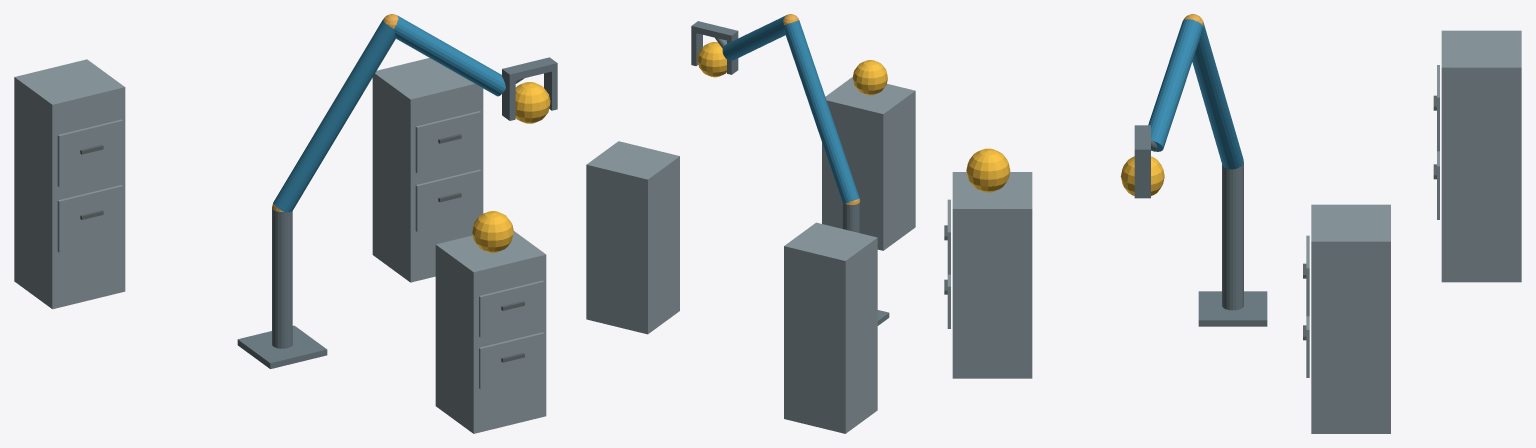
The picture shows the model from 3 angles, left to right: view 1: azimuth 30°, elevation 25°; view 2: azimuth 150°, elevation 25°; view 3: azimuth 270°, elevation 25°; orthographic projection. The views are drawn at different scales.
Visible parts, largest first — view 1: cabinet_3 body, cabinet_2 body, cabinet_1 body, moving link 1, cabinet_3 drawer front, cabinet_3 drawer front.001, cabinet_2 drawer front.001, cabinet_2 drawer front, fixed post, cabinet_1 drawer front, cabinet_1 drawer front.001, moving link 2 (+5 smaller); view 2: cabinet_3 body, cabinet_2 body, cabinet_1 body, moving link 1, moving link 2, released ball_1, ball ball_2, gripper bridge, fixed post, gripper finger 1; view 3: cabinet_3 body, cabinet_2 body, cabinet_1 body, fixed post, moving link 1, moving link 2, pedestal, released ball_1, ball ball_2, gripper finger 1, gripper bridge.
Boxes of the visible parts, x1,y1,x2,y2 form: cabinet_3 body: (14, 59, 125, 309); cabinet_2 body: (372, 58, 483, 282); cabinet_1 body: (435, 231, 546, 433); moving link 1: (273, 19, 395, 212); cabinet_3 drawer front: (57, 185, 123, 252); cabinet_3 drawer front.001: (57, 119, 123, 187); cabinet_2 drawer front.001: (415, 111, 481, 173); cabinet_2 drawer front: (415, 169, 481, 231); fixed post: (272, 208, 292, 348); cabinet_1 drawer front: (479, 332, 544, 389); cabinet_1 drawer front.001: (479, 280, 544, 337); moving link 2: (394, 15, 505, 96); cabinet_3 body: (784, 222, 877, 433); cabinet_2 body: (586, 141, 679, 334); cabinet_1 body: (822, 77, 915, 250); moving link 1: (784, 20, 859, 203); moving link 2: (722, 14, 787, 60); released ball_1: (853, 60, 887, 95); ball ball_2: (697, 42, 726, 77); gripper bridge: (691, 21, 738, 41); fixed post: (842, 202, 860, 232); gripper finger 1: (691, 32, 702, 65); cabinet_3 body: (1441, 30, 1521, 282); cabinet_2 body: (1311, 204, 1390, 433); cabinet_1 body: (952, 172, 1032, 378); fixed post: (1222, 163, 1243, 310); moving link 1: (1192, 22, 1243, 169); moving link 2: (1148, 19, 1203, 151); pedestal: (1198, 291, 1267, 326); released ball_1: (966, 148, 1010, 192); ball ball_2: (1120, 156, 1164, 195); gripper finger 1: (1134, 157, 1150, 198); gripper bridge: (1134, 125, 1150, 157).
Bounding box in the file's own units: 1.62 × 1.38 × 2.1.
